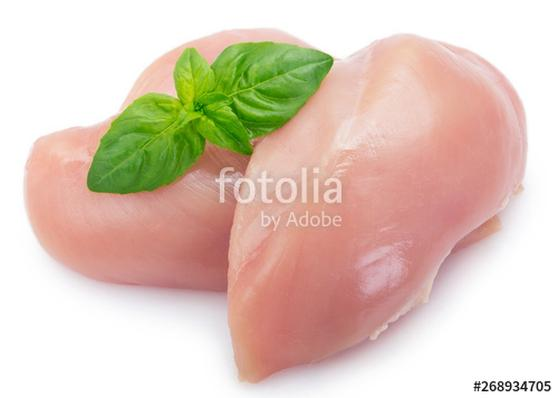chicken_fillet: (227, 31, 529, 378)
